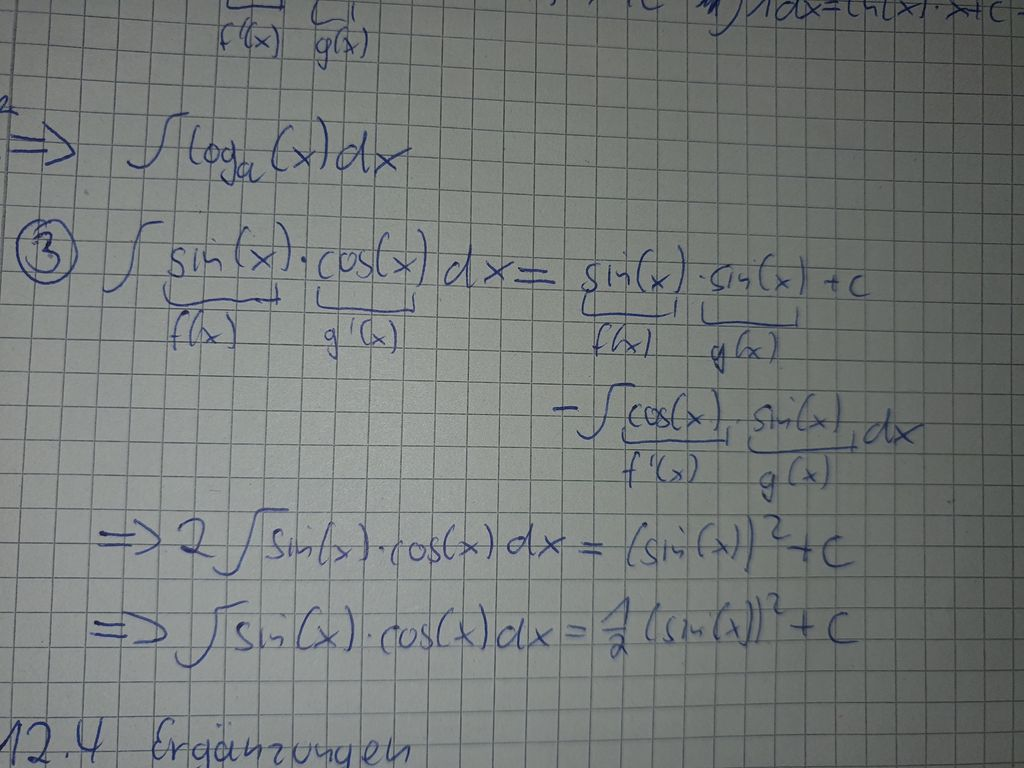equals: (511, 242, 561, 296), (582, 531, 610, 563), (565, 614, 590, 649)
equation: (79, 202, 898, 321), (152, 487, 865, 583), (164, 590, 884, 671)
seperator: (786, 604, 821, 643), (786, 533, 816, 572)
term: (92, 208, 512, 306), (163, 494, 569, 579), (579, 373, 942, 460), (113, 98, 424, 191), (169, 598, 557, 661), (573, 227, 809, 312), (595, 586, 779, 667), (618, 508, 785, 574), (823, 603, 871, 647), (844, 257, 881, 309), (817, 528, 856, 575)
